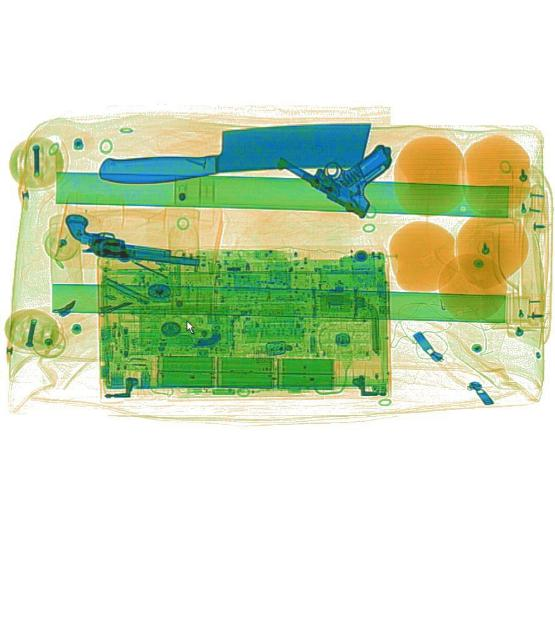Gun: (272, 100, 397, 218), (59, 210, 201, 272)
Knife: (98, 121, 371, 183)
